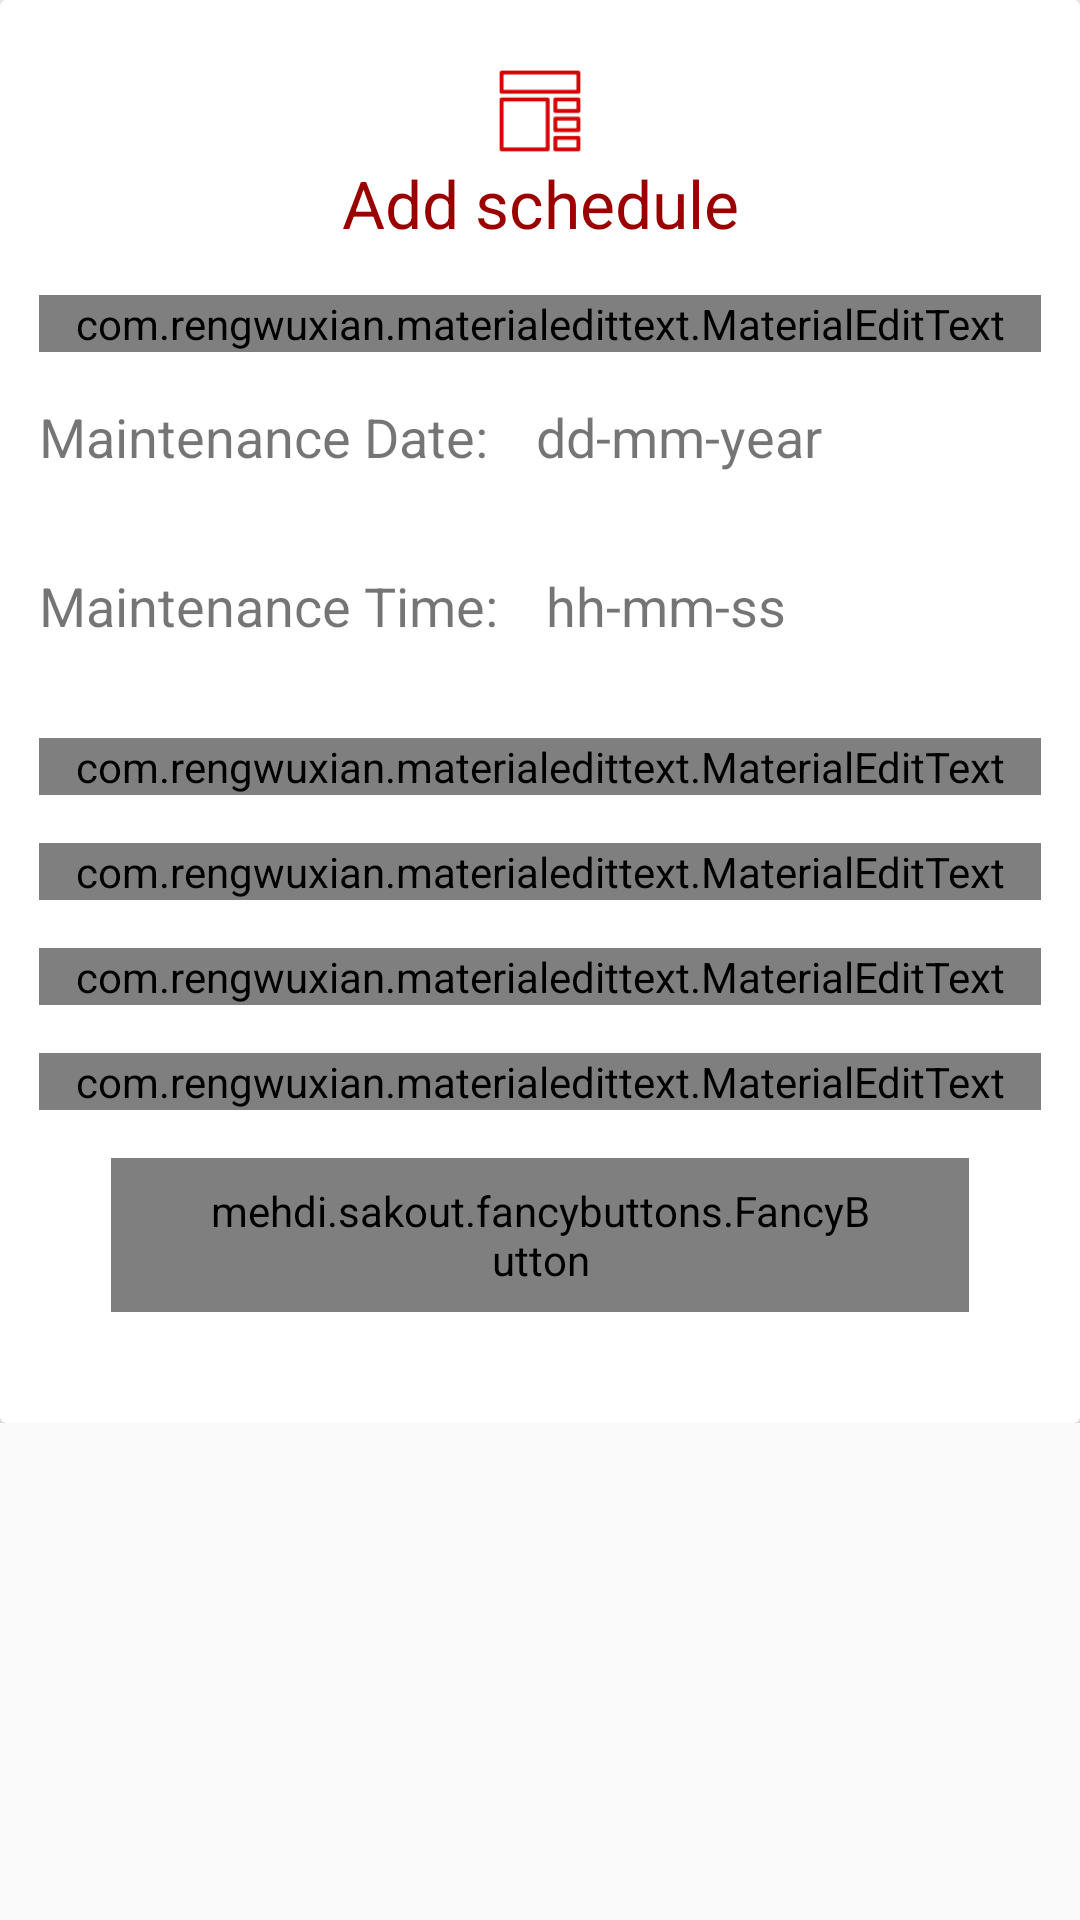

Point at icon controls on the screen. Image size 1080×1920, points as [x,y].
prototype: [540,111]
